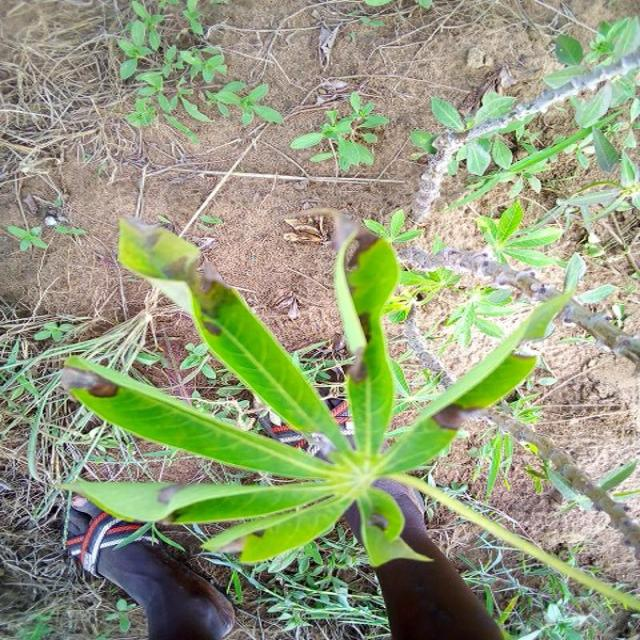cassava leaf: (59, 209, 584, 570), (116, 214, 354, 456)
